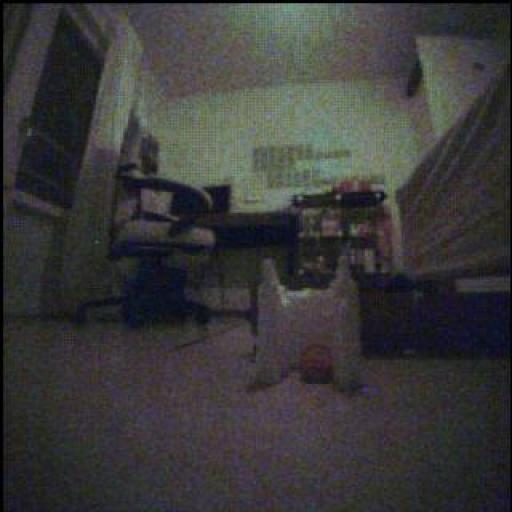basket: (302, 345, 334, 385)
